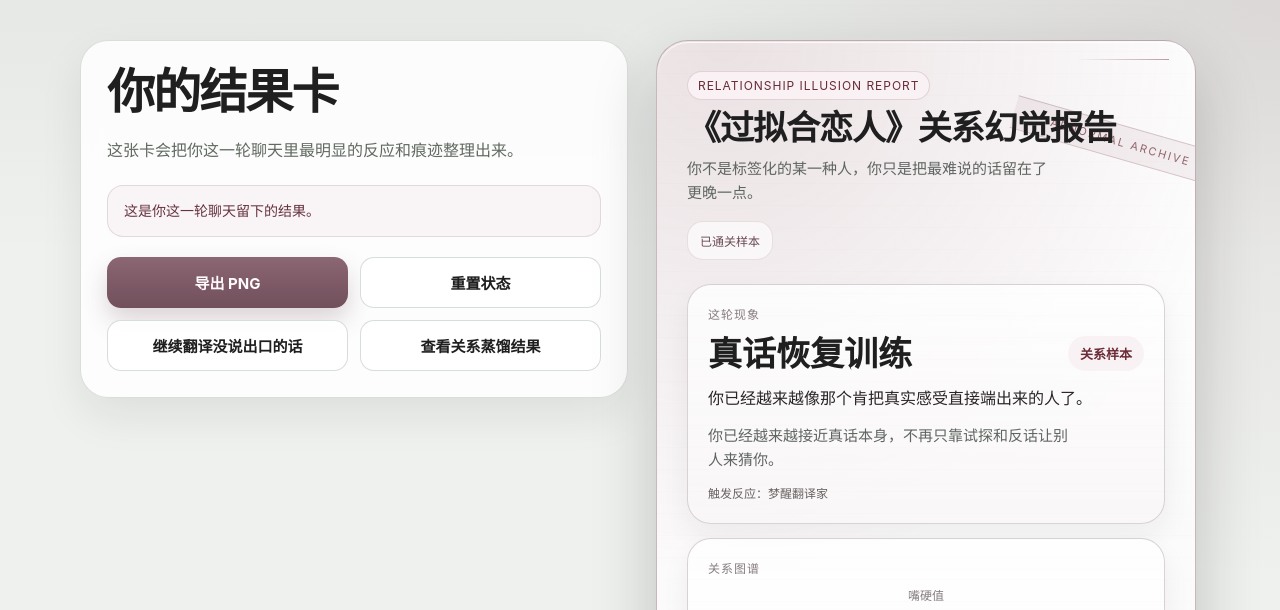
Test: ShareCardPage › 可以导出 PNG 分享卡
Click the button "导出 PNG". click: (228, 282)
box: [107,257,348,308]
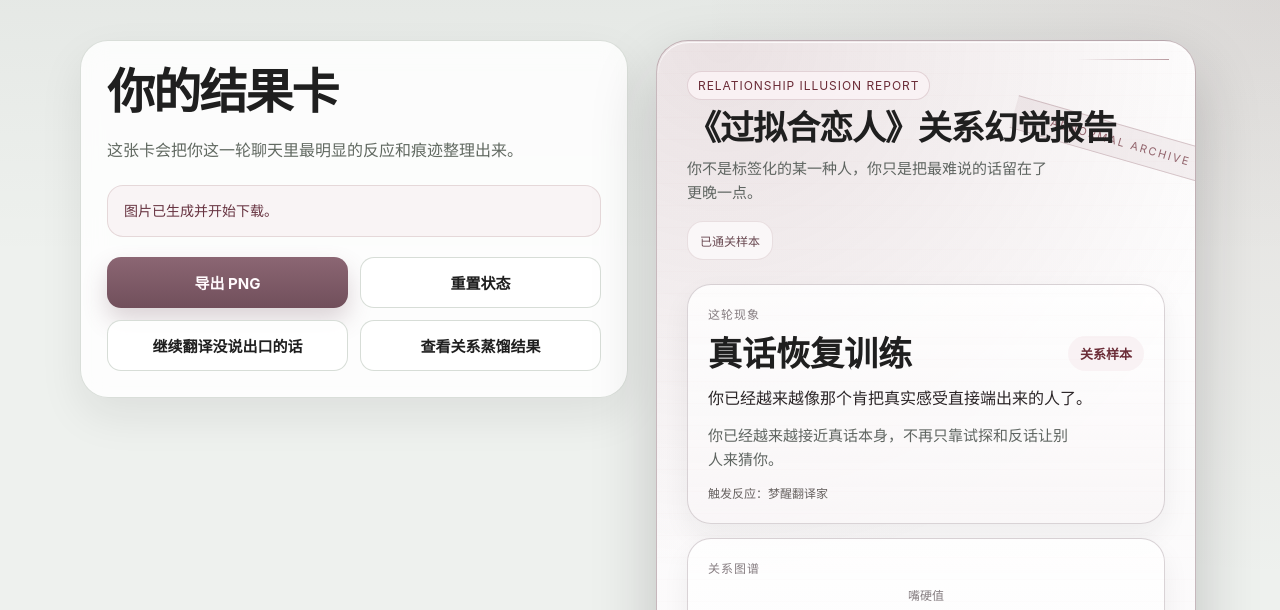
Expected: the text "图片已生成并开始下载。" is shown, [107,185,601,237]
